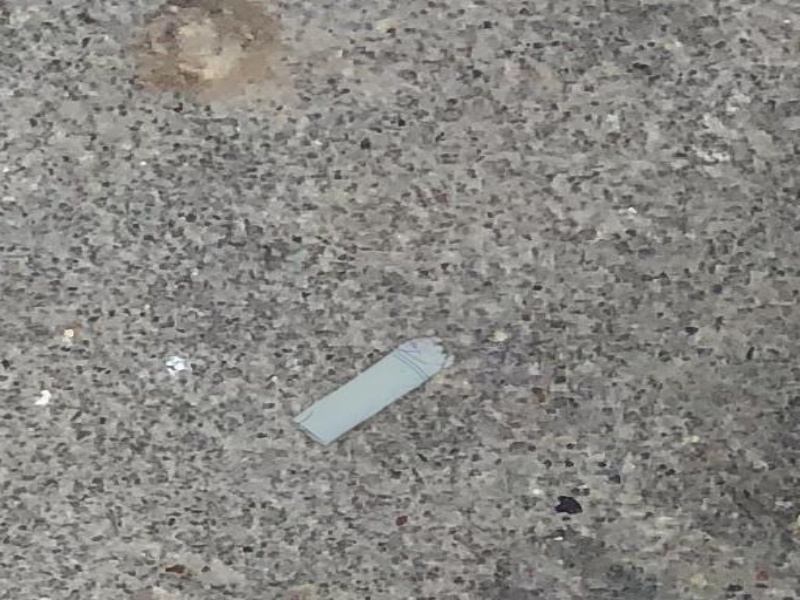cig: (284, 320, 462, 445)
